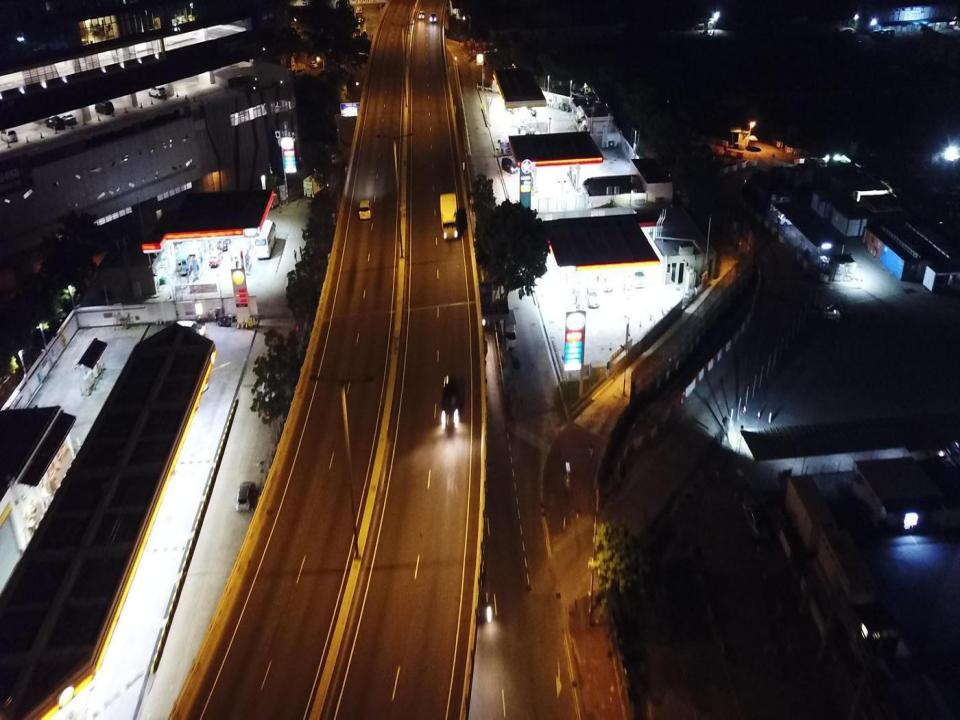bus: (255, 219, 276, 260), (176, 239, 196, 275), (355, 5, 363, 23), (354, 25, 361, 36)
car: (464, 544, 491, 622), (742, 499, 770, 542), (440, 374, 460, 428), (236, 480, 256, 510), (821, 303, 843, 321), (587, 283, 599, 308), (501, 157, 518, 174), (209, 249, 223, 268), (634, 268, 646, 288), (602, 270, 612, 292), (218, 234, 230, 250), (308, 61, 318, 68), (431, 12, 436, 22), (419, 10, 424, 19)
truck: (440, 193, 458, 240), (303, 172, 328, 197), (502, 309, 516, 351), (312, 154, 336, 170), (358, 200, 372, 219)
van: (293, 68, 306, 80)
